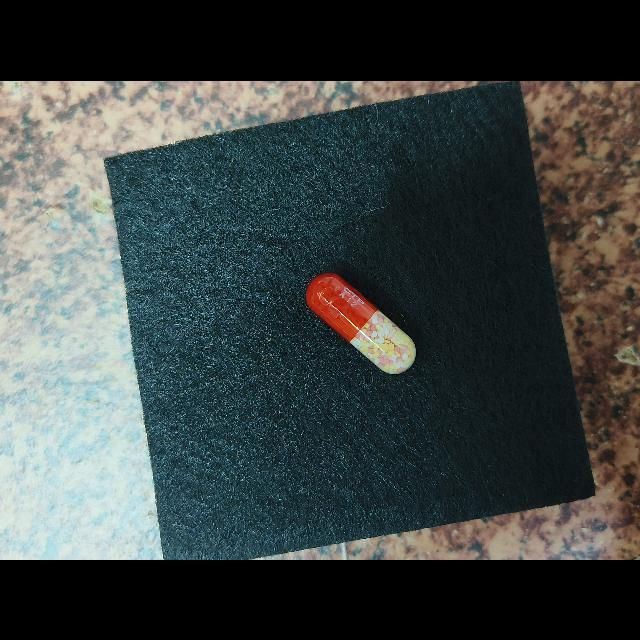Intact Capsule: (306, 272, 416, 374)
